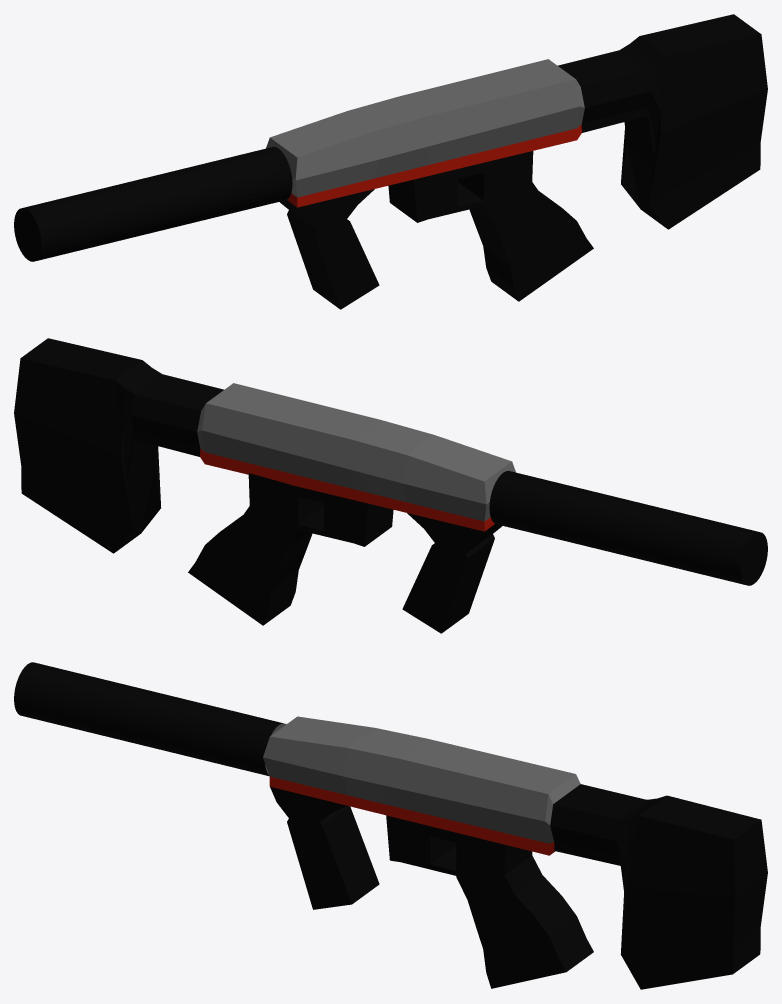
Rendered from BasicSMG.fbx.
3 views of the same model, one above another, from view 1: azimuth 30°, elevation 25°; view 2: azimuth 150°, elevation 25°; view 3: azimuth 330°, elevation 25° (orthographic).
Visible parts, largest first — view 1: Cube; view 2: Cube; view 3: Cube.
Part boxes in pixels (x1,y1,x2,y2): Cube: [14, 14, 767, 309]; Cube: [14, 338, 767, 633]; Cube: [14, 662, 767, 989].
Size of the model in its own units: 298 by 82.42 by 24.76.
